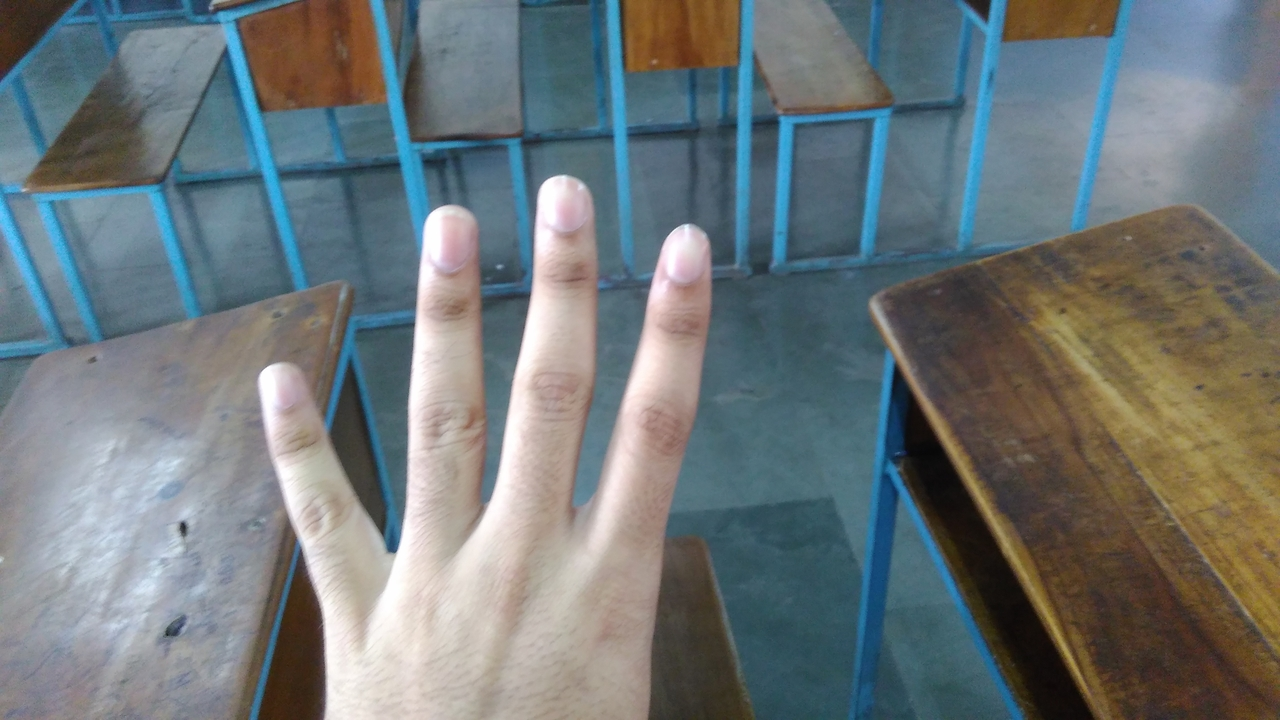fingertip: (528, 172, 600, 242), (412, 196, 480, 270), (650, 216, 718, 288), (242, 360, 308, 430)
